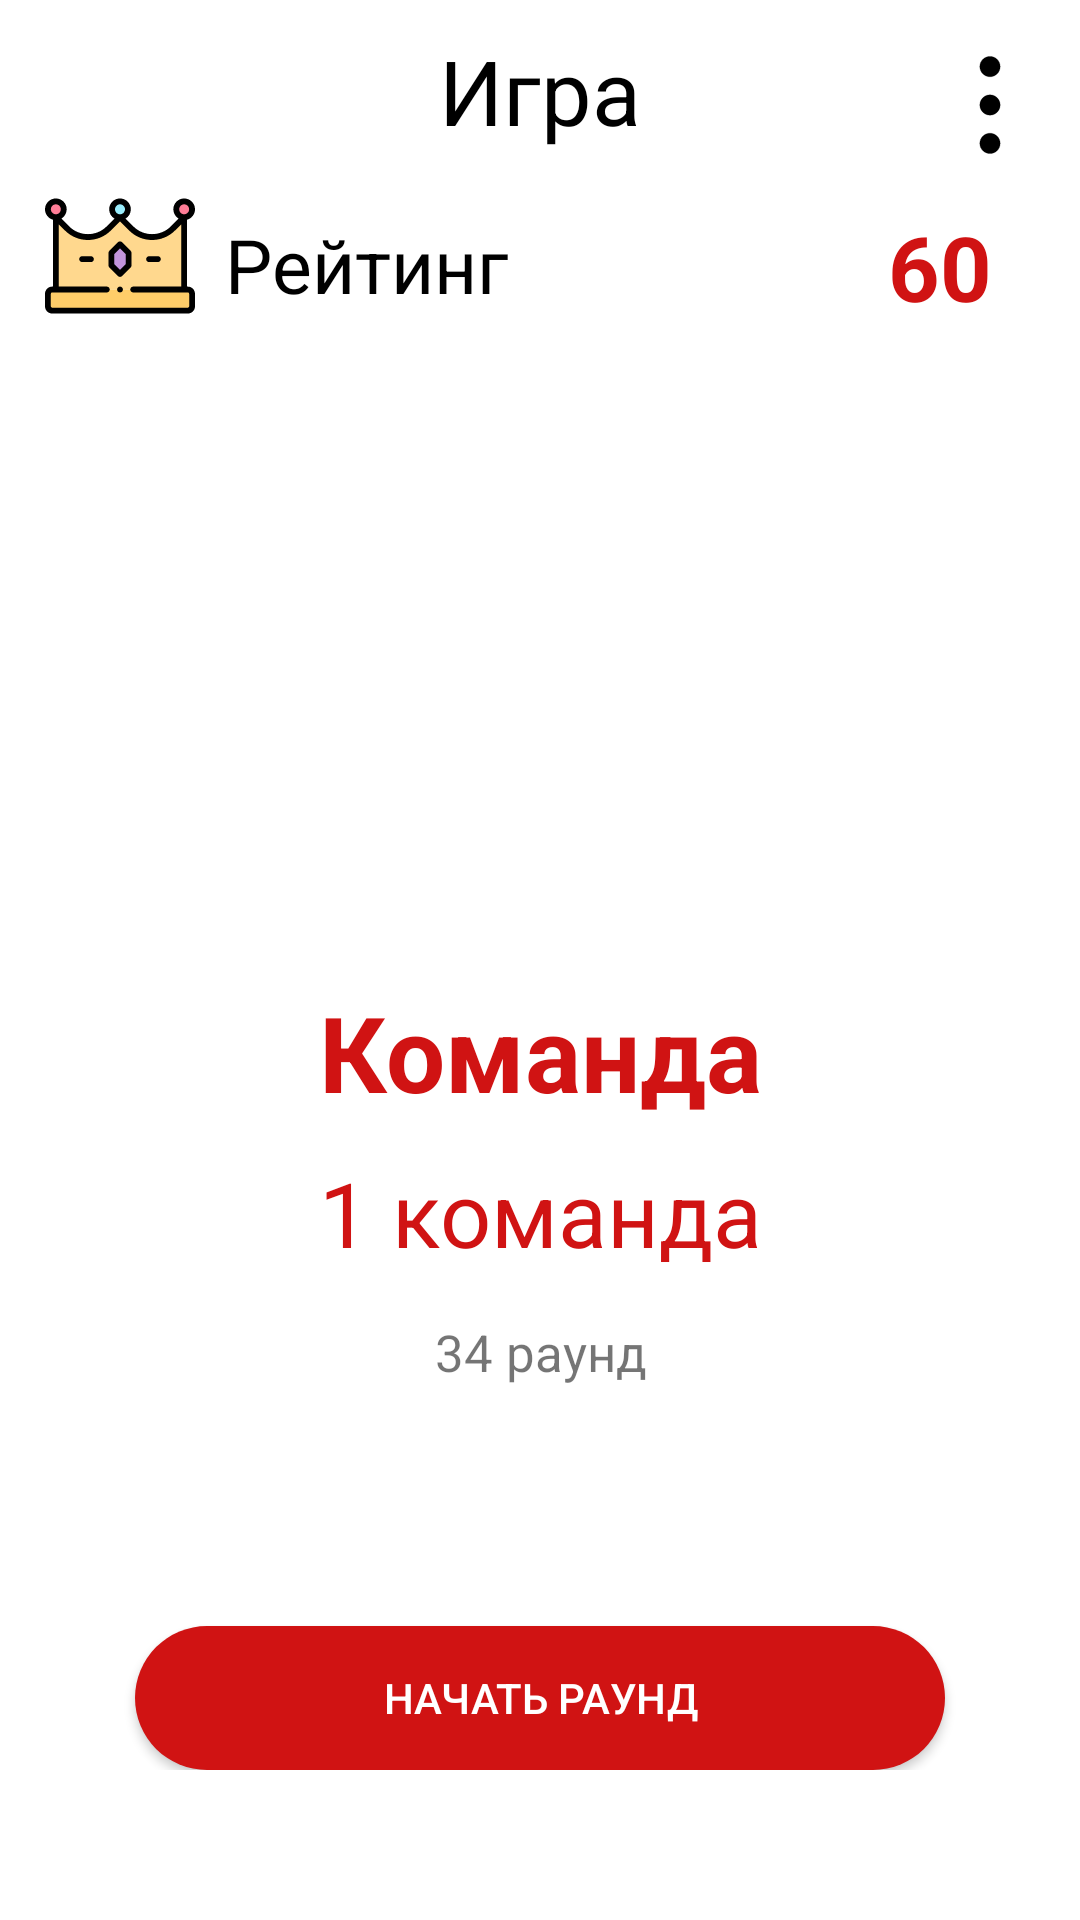

Screen size 1080*1920. Icon name, then its center in pixels as (x,y):
crown: (120,256)
